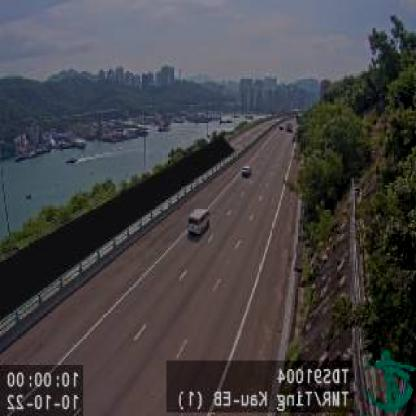Car: (186, 205, 210, 236), (241, 163, 252, 178)
